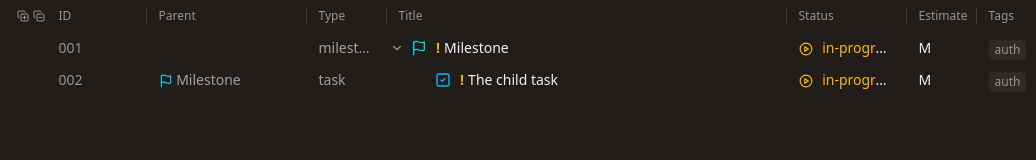
Test: TreeTable › collapsing a parent hides children, expanding shows them again
The image size is (1036, 160).
# Click toggle to collapse
Click the button with test id "toggle".
click(396, 48)  # box x1=386 y1=38 x2=406 y2=58
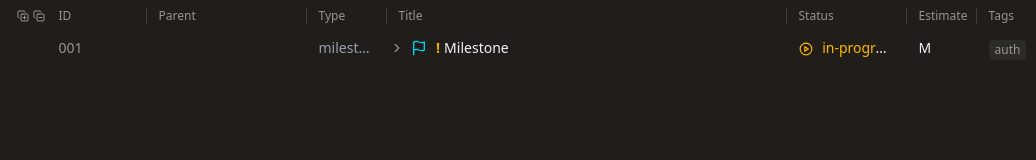
Expected: the button "The child task" is gone
# Click toggle to expand
Click the button with test id "toggle".
click(396, 48)  # box x1=386 y1=38 x2=406 y2=58
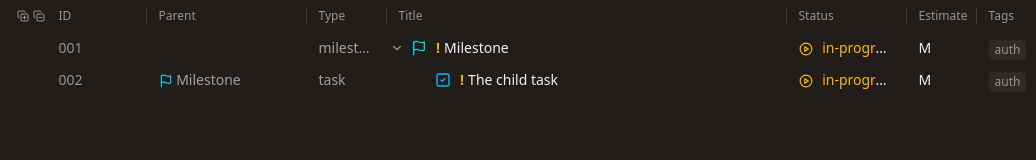
Expected: the button "The child task" is shown, x1=468 y1=70 x2=558 y2=90
